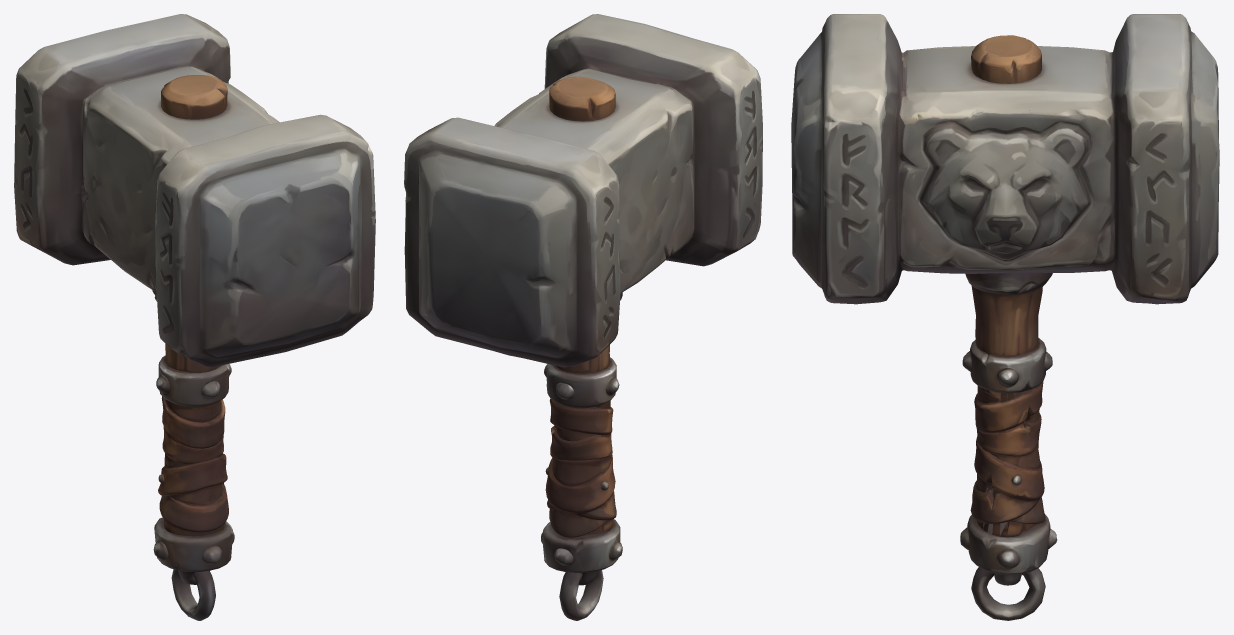
The model's file is 14-hammer.glb.
3 views of the same model, side by side, from view 1: azimuth 30°, elevation 25°; view 2: azimuth 150°, elevation 25°; view 3: azimuth 270°, elevation 25° (orthographic). The views are drawn at different scales.
Visible parts, largest first — view 1: tripo_node_9b2b52da-695c-44b9-ba6d-dfeffd9719e6; view 2: tripo_node_9b2b52da-695c-44b9-ba6d-dfeffd9719e6; view 3: tripo_node_9b2b52da-695c-44b9-ba6d-dfeffd9719e6.
Part boxes in pixels (bbox=[...]): tripo_node_9b2b52da-695c-44b9-ba6d-dfeffd9719e6: bbox=[14, 14, 375, 620]; tripo_node_9b2b52da-695c-44b9-ba6d-dfeffd9719e6: bbox=[404, 14, 762, 620]; tripo_node_9b2b52da-695c-44b9-ba6d-dfeffd9719e6: bbox=[791, 14, 1219, 620].
Bounding box in the file's own units: 0.3882 × 0.9995 × 0.6763.
Materials: 1 (1 with a texture image).
